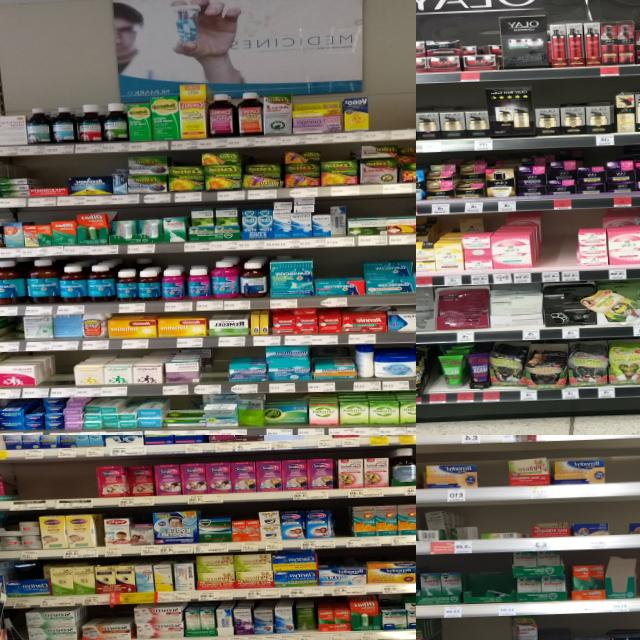100- O.O.S: (47, 461, 96, 509), (10, 463, 47, 510), (604, 448, 640, 495), (476, 454, 508, 500), (390, 91, 416, 139), (538, 219, 558, 281), (559, 215, 576, 282), (368, 91, 390, 140), (441, 619, 483, 640), (334, 499, 350, 547), (48, 369, 74, 397), (202, 366, 226, 394), (484, 617, 511, 640), (428, 364, 442, 404), (265, 435, 299, 450), (0, 331, 20, 351)
